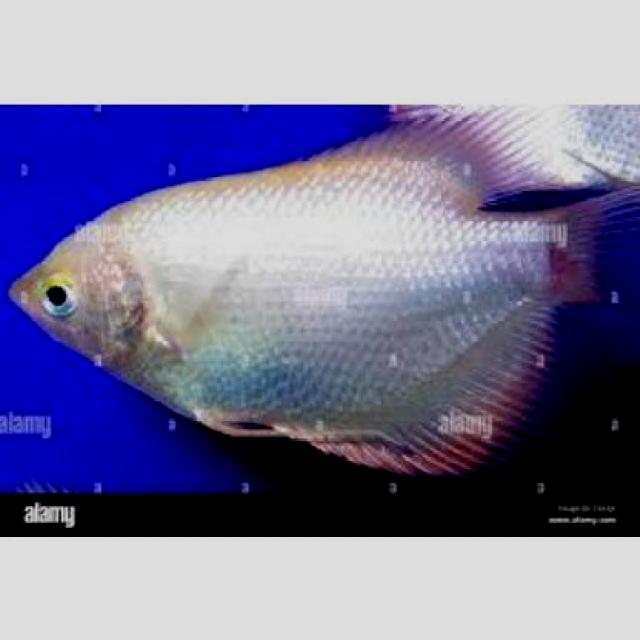gurame: (12, 140, 594, 478)
